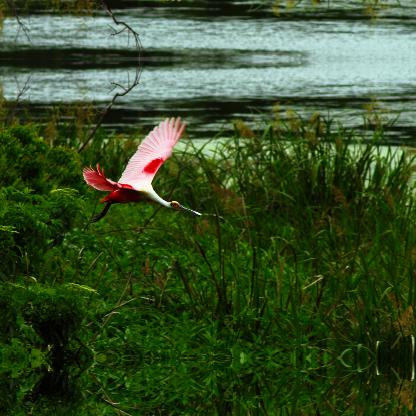Bird: (74, 117, 194, 225)
